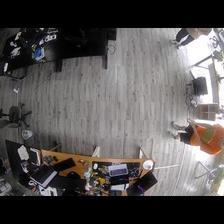normal: (170, 118, 224, 156)
